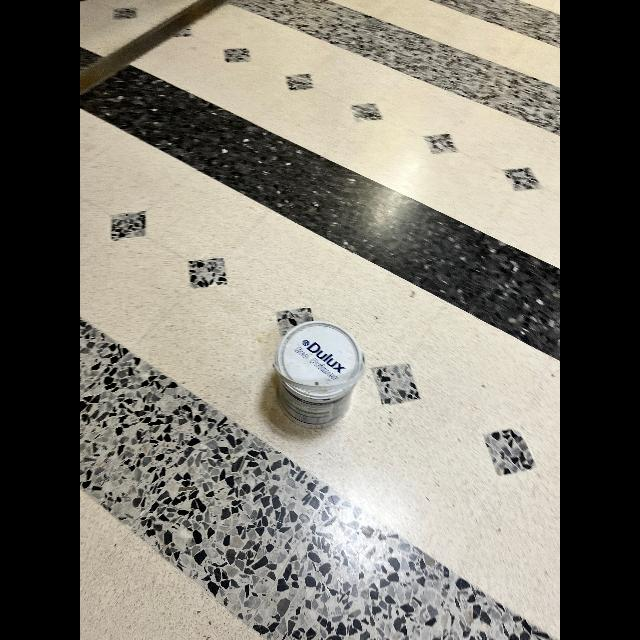paint_bucket: (269, 322, 365, 432)
